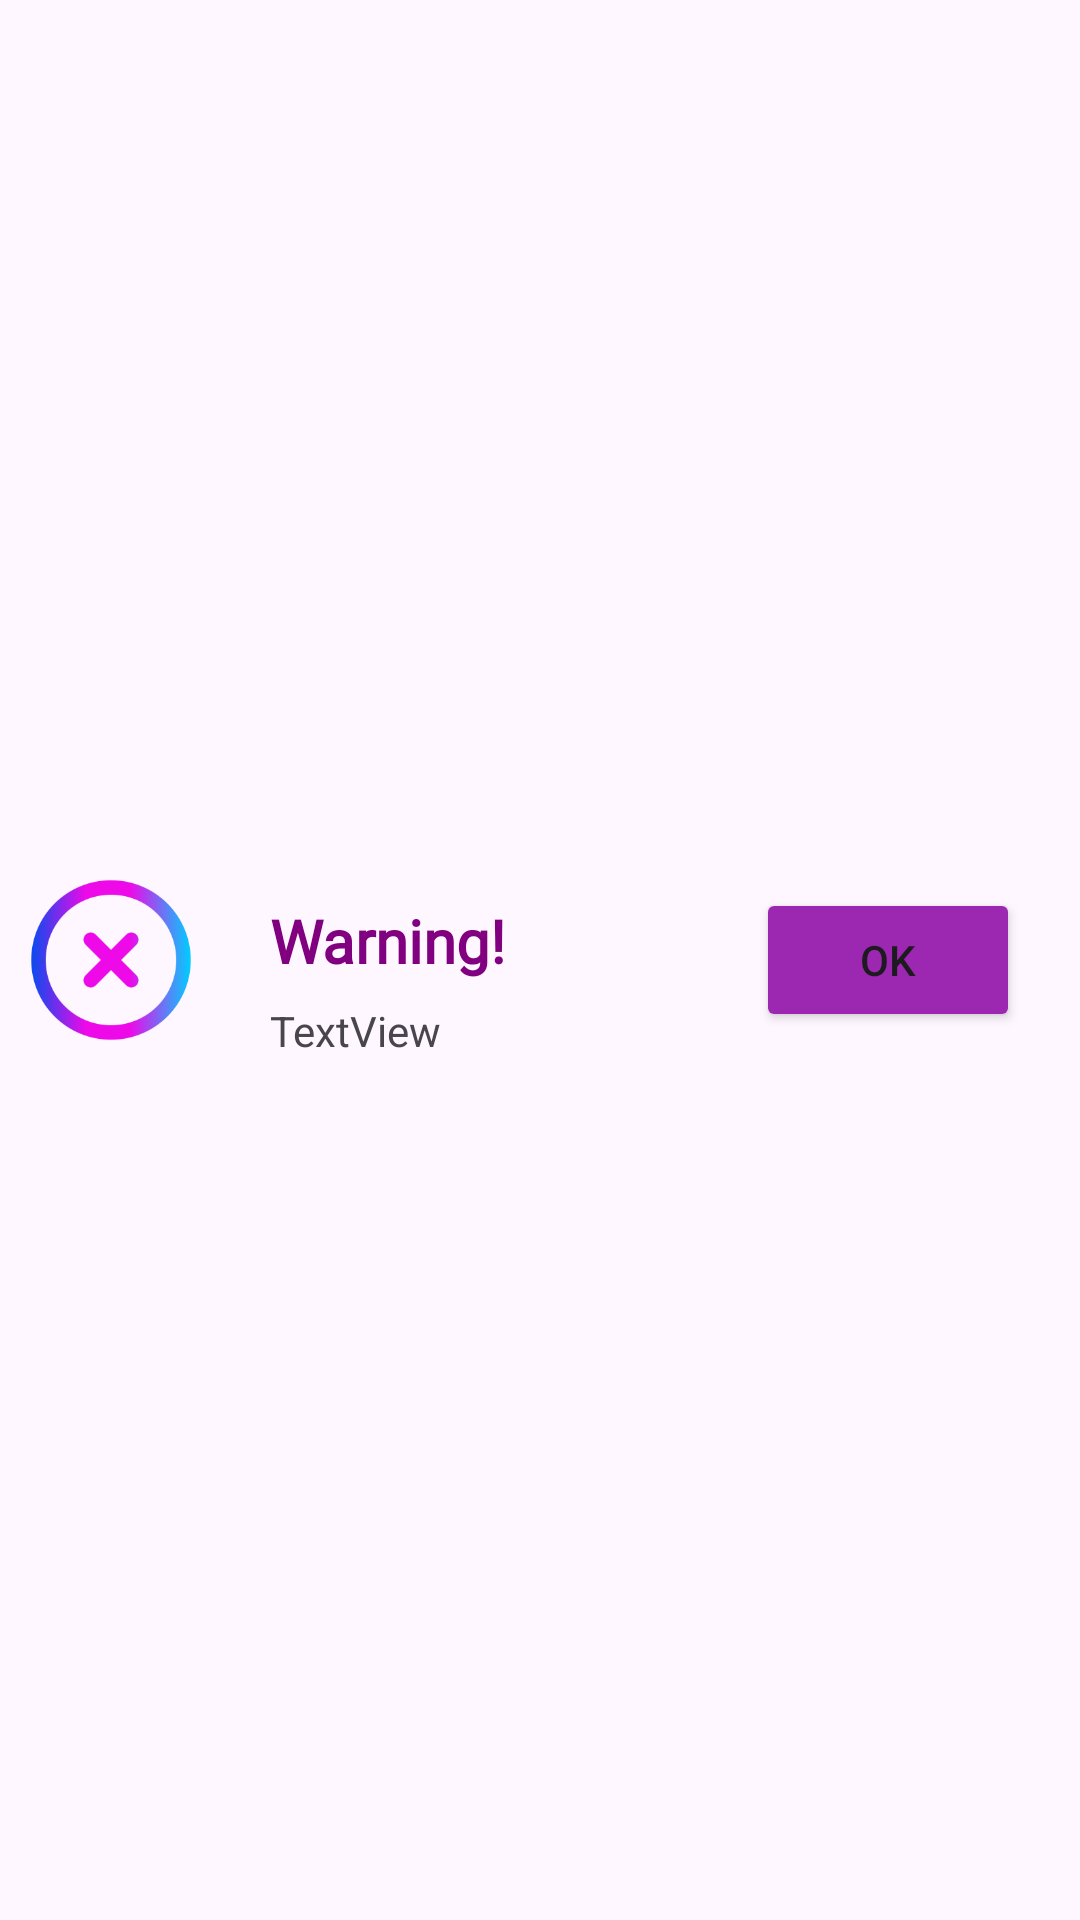

Screen size 1080w x 1920h. Icon name, then its center in pixels as point (x, y):
close: point (111, 960)
